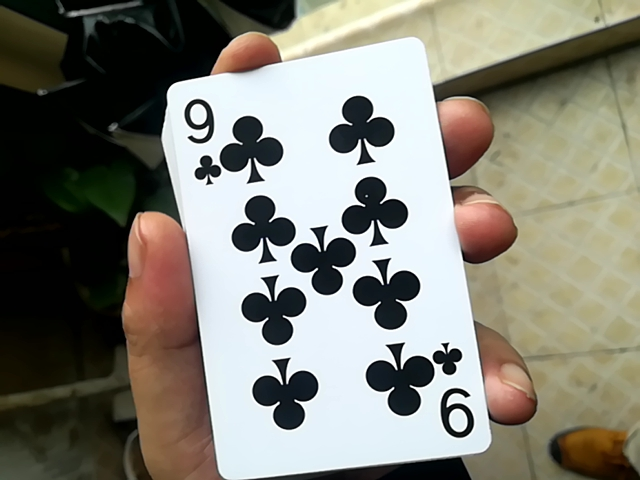mh 9: (142, 38, 486, 472)
